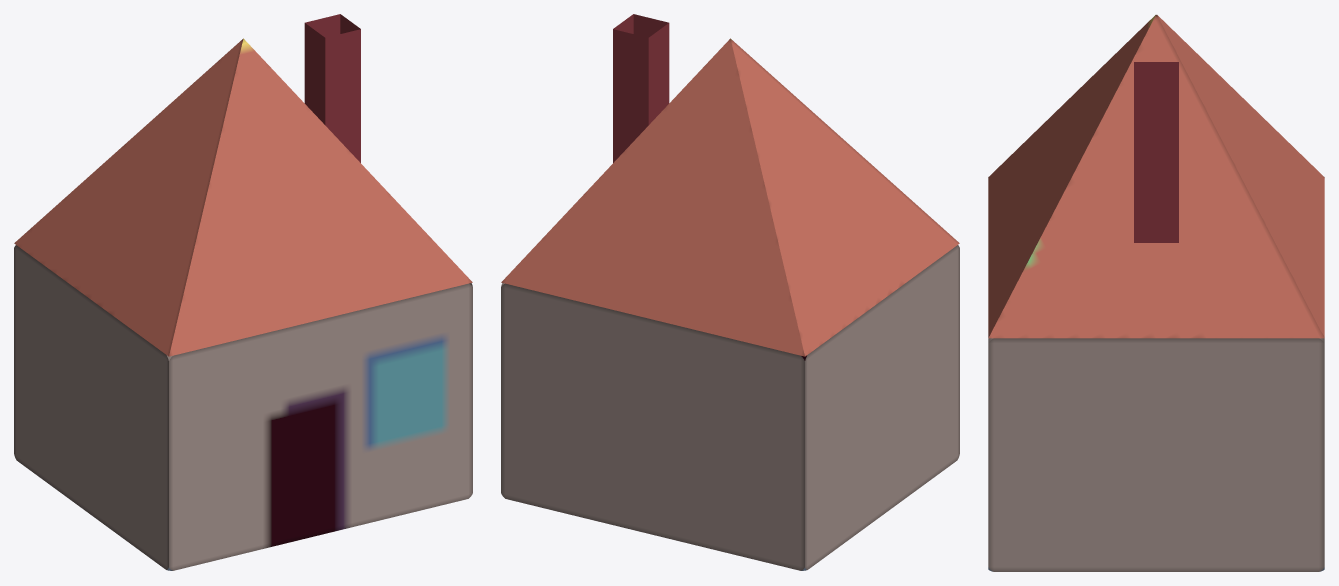
Rendered from house.fbx.
3 renders of one model, left to right at view 1: azimuth 30°, elevation 25°; view 2: azimuth 150°, elevation 25°; view 3: azimuth 270°, elevation 25°, orthographic. The views are drawn at different scales.
Parts seen in each view (by area): view 1: cuboid, top, cuboid_1; view 2: cuboid, top, cuboid_1; view 3: cuboid, top, cuboid_1.
Boxes of the visible parts, x1,y1,x2,y2 form: cuboid: (14, 245, 472, 570); top: (14, 38, 472, 356); cuboid_1: (304, 14, 360, 162); cuboid: (501, 245, 959, 570); top: (501, 38, 959, 356); cuboid_1: (613, 14, 669, 162); cuboid: (988, 338, 1324, 571); top: (988, 14, 1324, 338); cuboid_1: (1134, 62, 1178, 242).
Bounding box in the file's own units: 212 × 294 × 188.
Materials: 3 (3 with a texture image).
